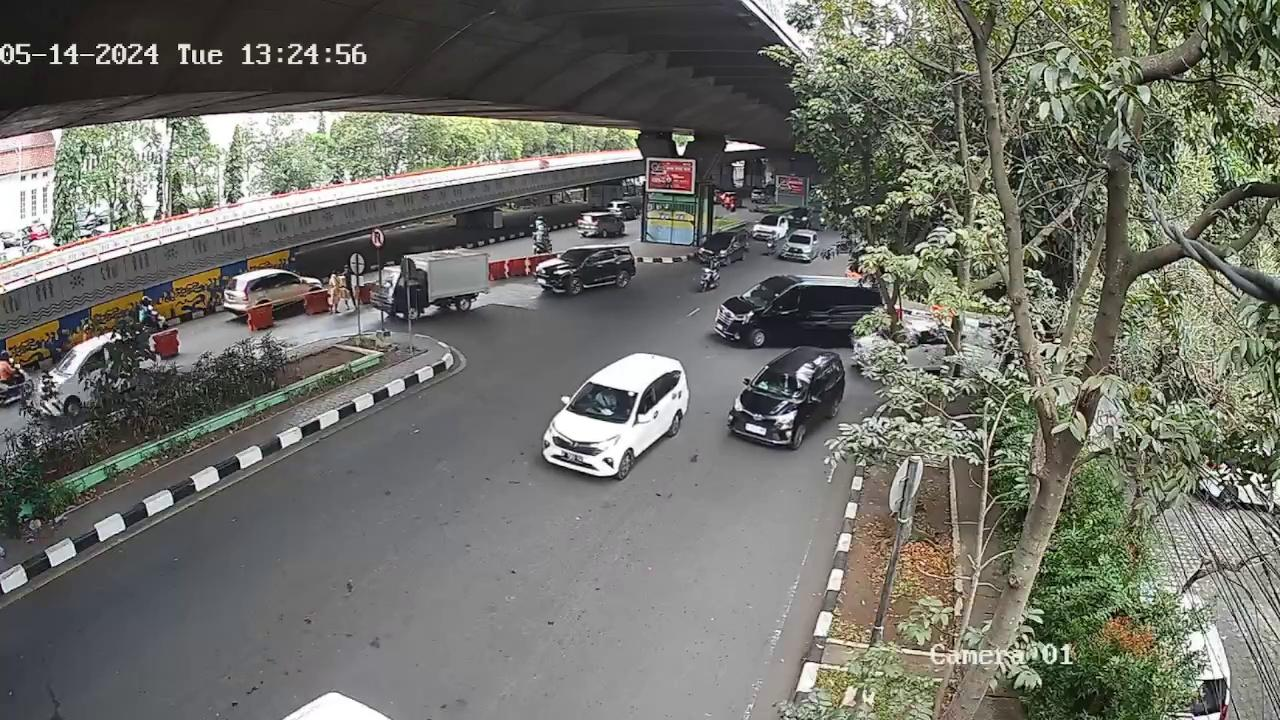windshield: (571, 381, 637, 422), (752, 365, 807, 402), (586, 391, 620, 412)
